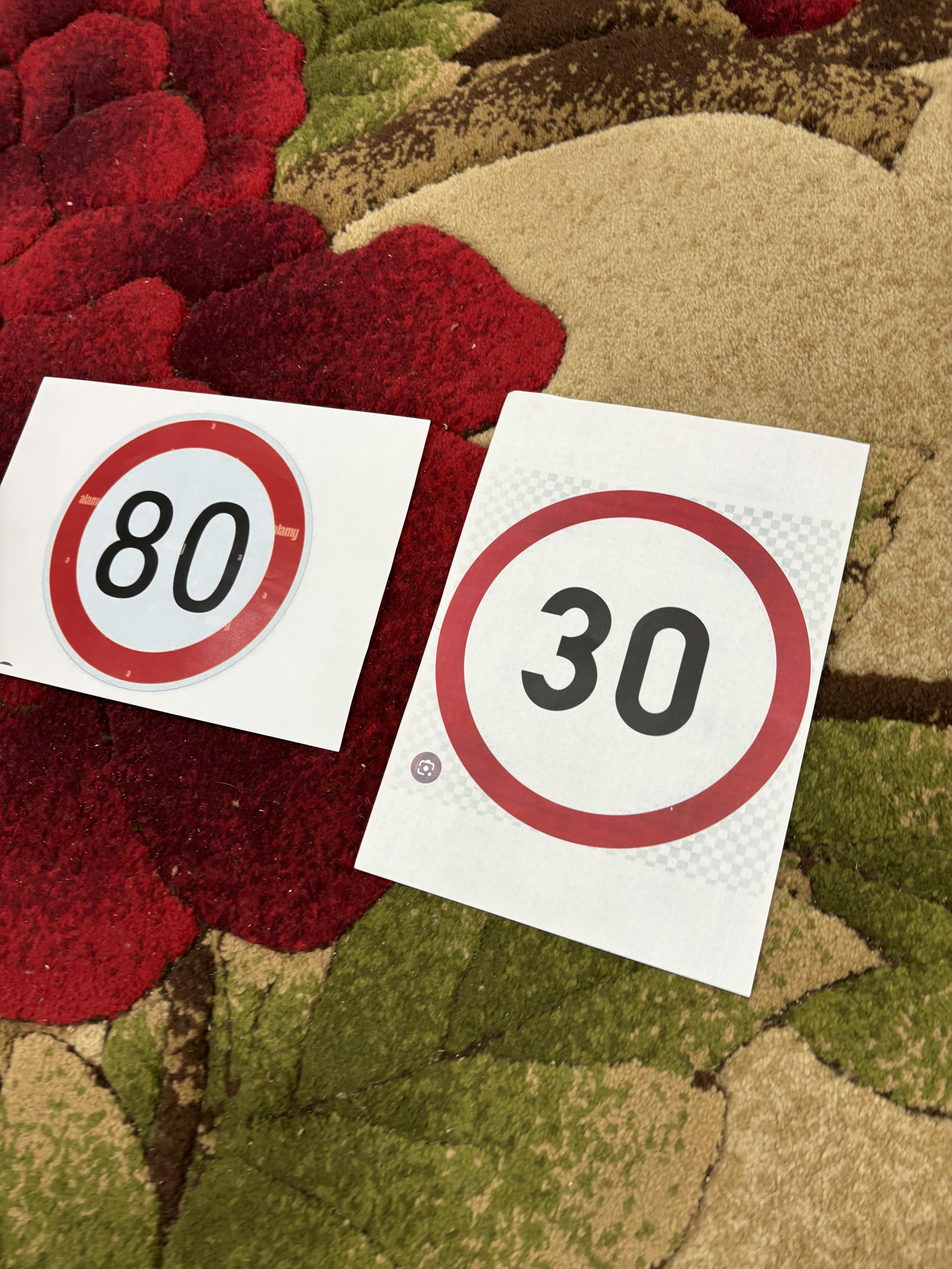30-speed: (438, 474, 811, 851)
80-Speed: (38, 411, 315, 691)
